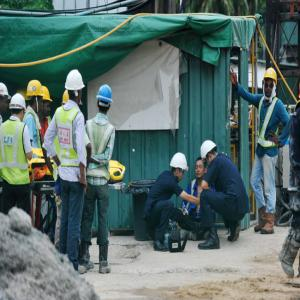blue: (96, 84, 113, 114)
none: (196, 156, 209, 181)
white: (65, 71, 85, 105), (170, 152, 189, 183), (201, 139, 218, 169), (10, 92, 27, 121), (1, 84, 10, 115)
yellow: (27, 80, 44, 112), (263, 68, 278, 100), (43, 88, 53, 116)
